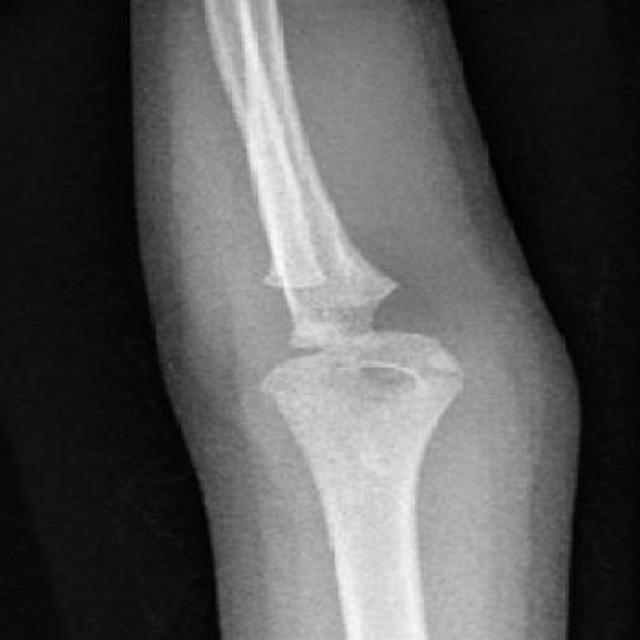fracture: (248, 258, 354, 375)
